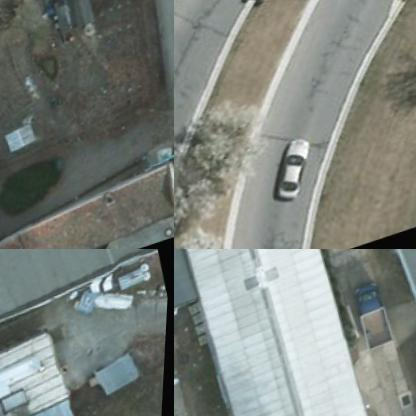car: (263, 139, 328, 215)
pickup: (348, 287, 396, 365)
